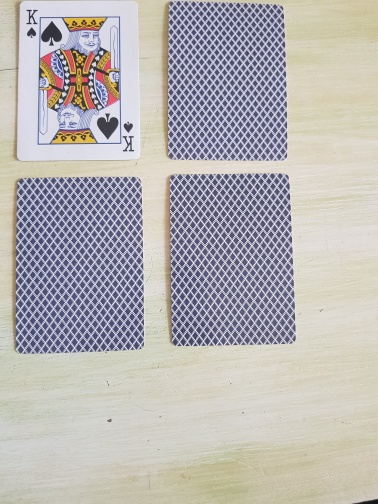king: (15, 1, 142, 162)
